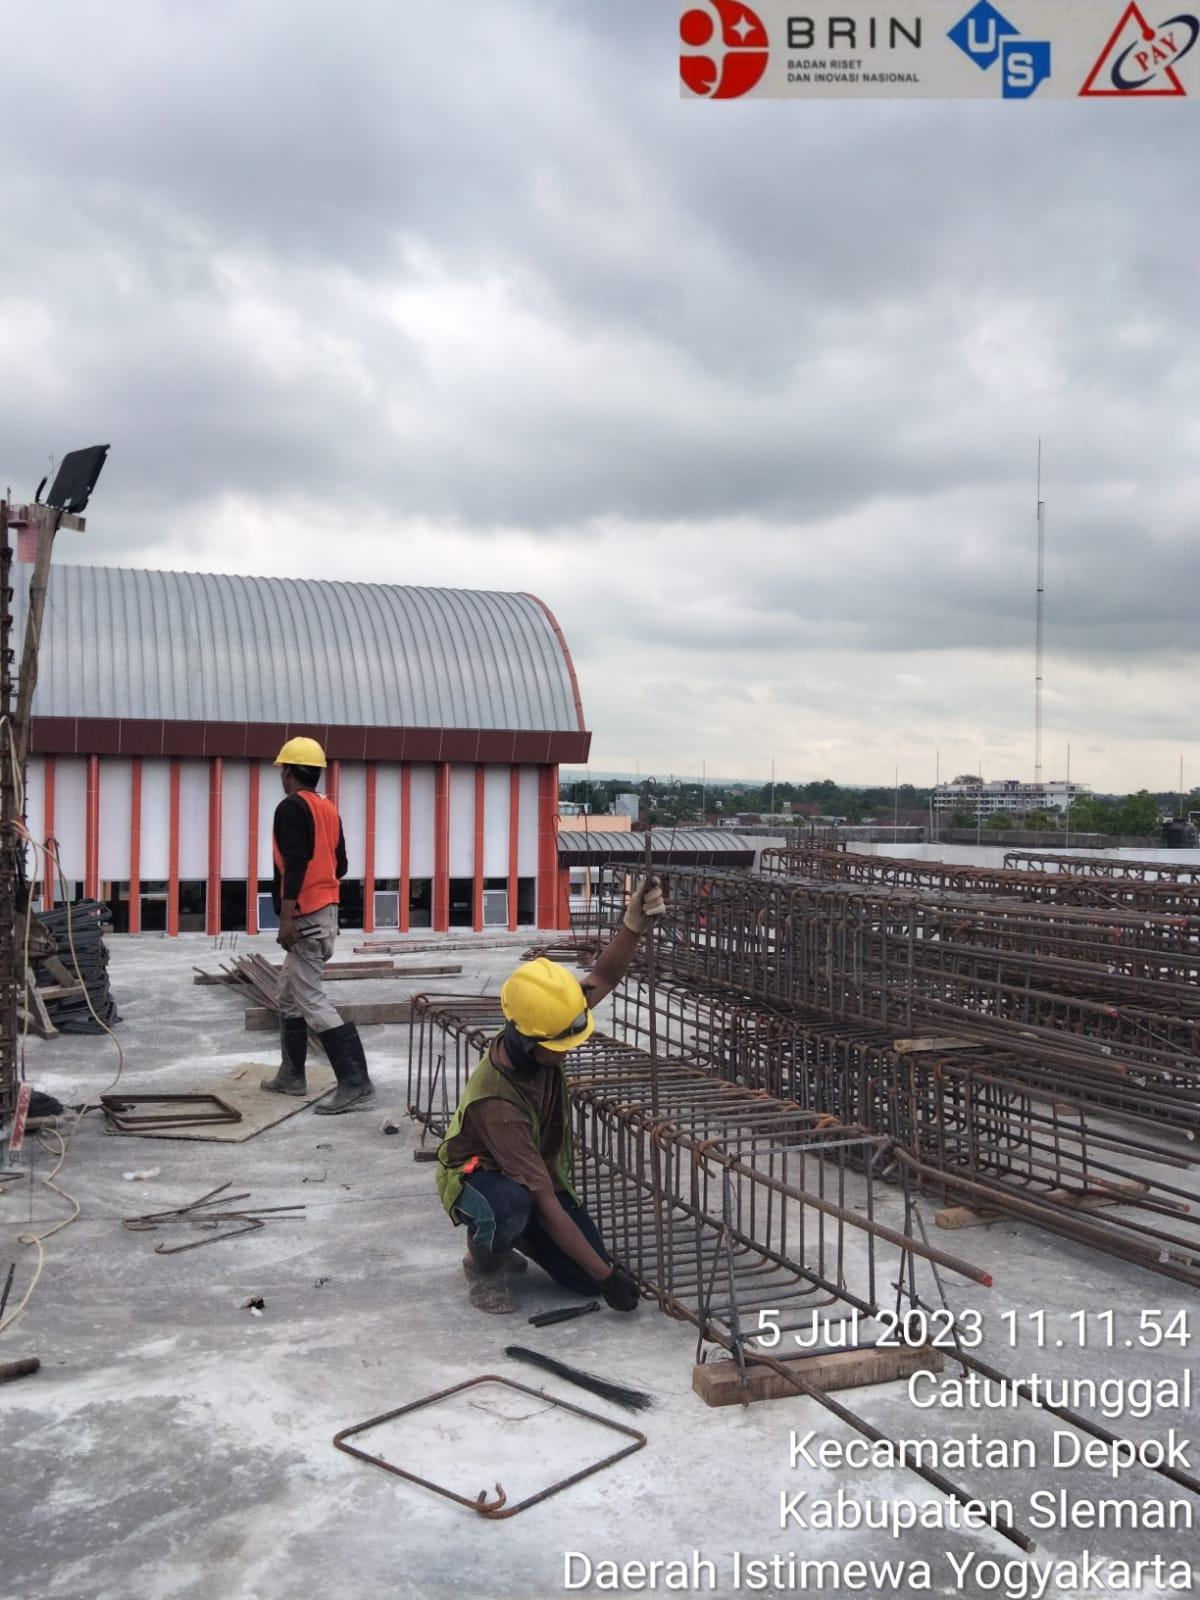hat: (474, 934, 637, 1056), (263, 706, 354, 796)
vest: (426, 1039, 581, 1226), (246, 789, 369, 936)
